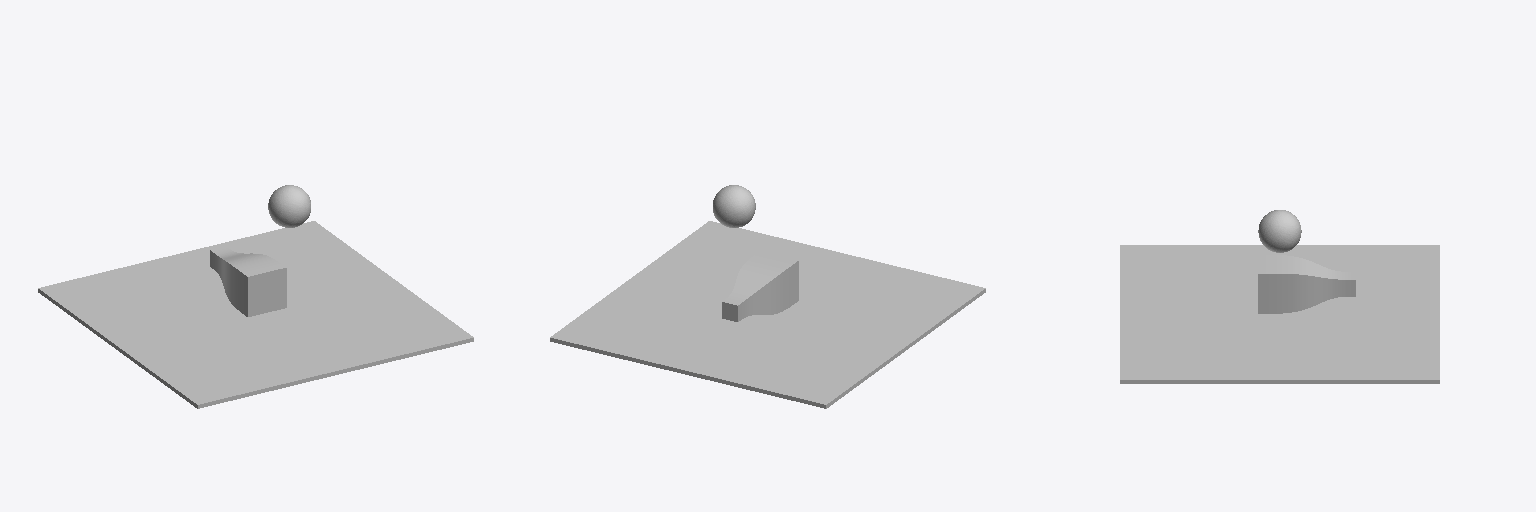
The picture shows the model from 3 angles: view 1: azimuth 30°, elevation 25°; view 2: azimuth 150°, elevation 25°; view 3: azimuth 270°, elevation 25°; orthographic projection.
Parts seen in each view (by area): view 1: grid2, Cube3, F3:GeoDome4; view 2: grid2, Cube3, F3:GeoDome4; view 3: grid2, Cube3, F3:GeoDome4.
Boxes of the visible parts, <box> form: grid2: <box>38,221,473,408</box>; Cube3: <box>210,246,286,316</box>; F3:GeoDome4: <box>268,185,310,227</box>; grid2: <box>550,221,985,408</box>; Cube3: <box>722,251,798,321</box>; F3:GeoDome4: <box>713,185,755,227</box>; grid2: <box>1120,245,1439,383</box>; Cube3: <box>1258,255,1355,313</box>; F3:GeoDome4: <box>1258,210,1301,252</box>.
Size of the model in its own units: 14.28 by 6.01 by 14.28.